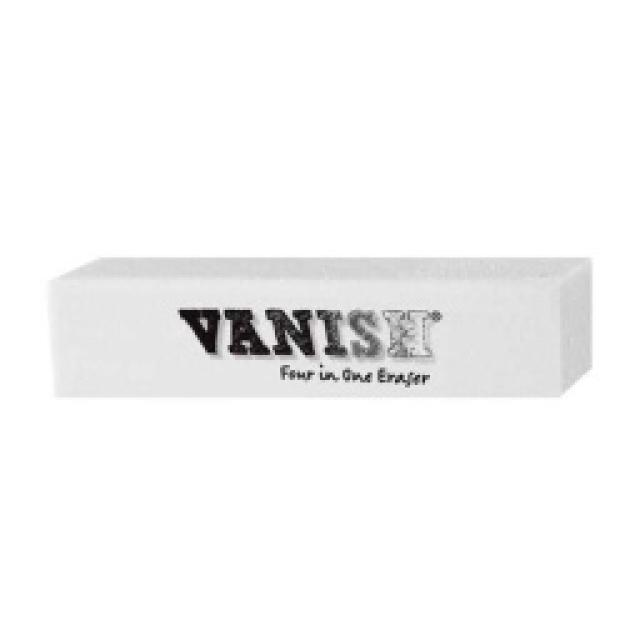Silgi: (43, 252, 598, 399)
